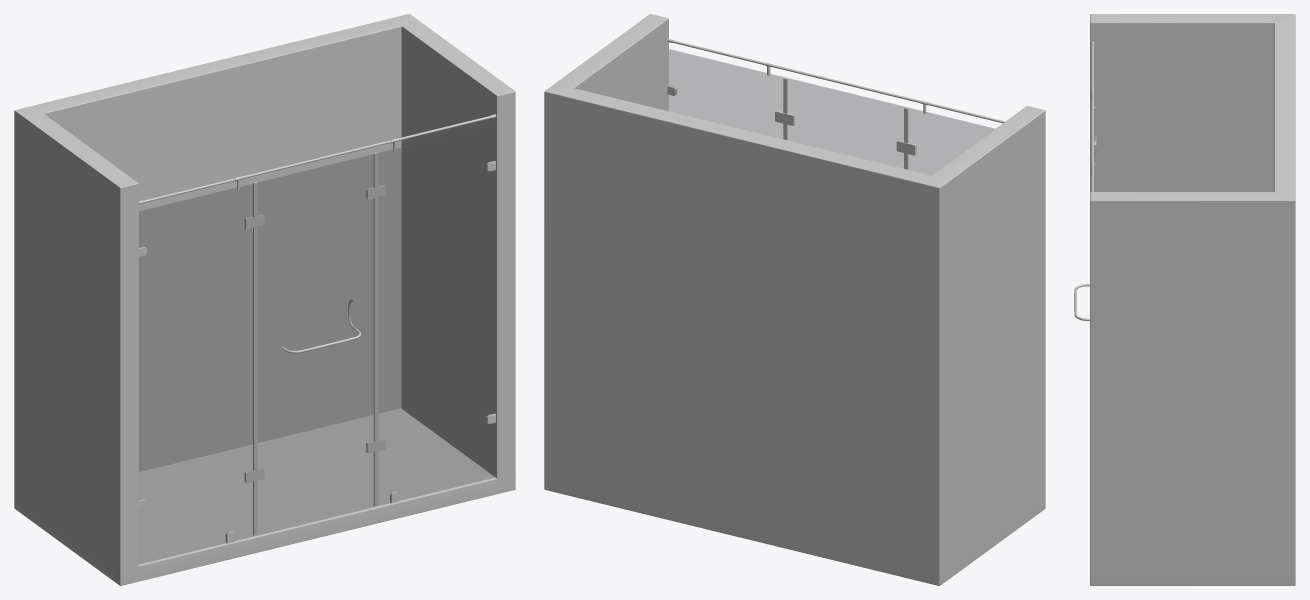
The model's file is Shower_enclosures_009.gltf.
3 renders of one model, left to right at view 1: azimuth 30°, elevation 25°; view 2: azimuth 150°, elevation 25°; view 3: azimuth 270°, elevation 25°, orthographic. The views are drawn at different scales.
Visible parts, largest first — view 1: Shower_enclosures_009; view 2: Shower_enclosures_009; view 3: Shower_enclosures_009.
Boxes of the visible parts, <box> form: Shower_enclosures_009: <box>14,14,515,585</box>; Shower_enclosures_009: <box>544,14,1045,585</box>; Shower_enclosures_009: <box>1074,14,1295,585</box>.
Size of the model in its own units: 0.822 by 0.7912 by 0.4114.
2 materials, 2 textured.
